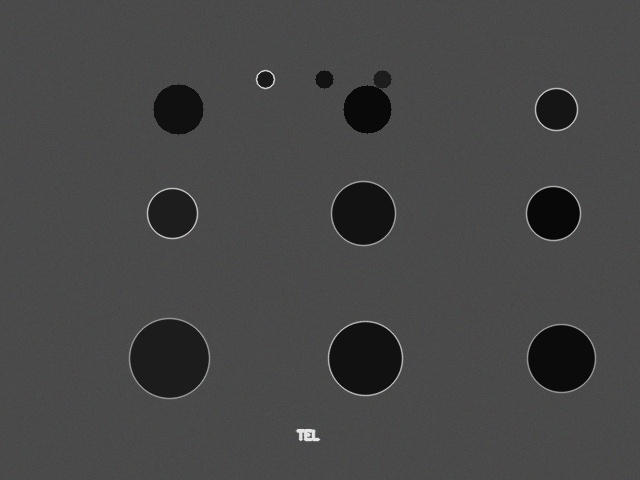hole: (129, 318, 209, 398), (328, 321, 402, 395), (527, 324, 595, 392), (331, 181, 395, 245), (526, 186, 580, 240), (153, 84, 203, 134), (147, 188, 197, 238), (343, 85, 391, 133), (535, 88, 577, 130), (256, 70, 274, 88), (315, 70, 333, 88), (373, 70, 391, 88)
